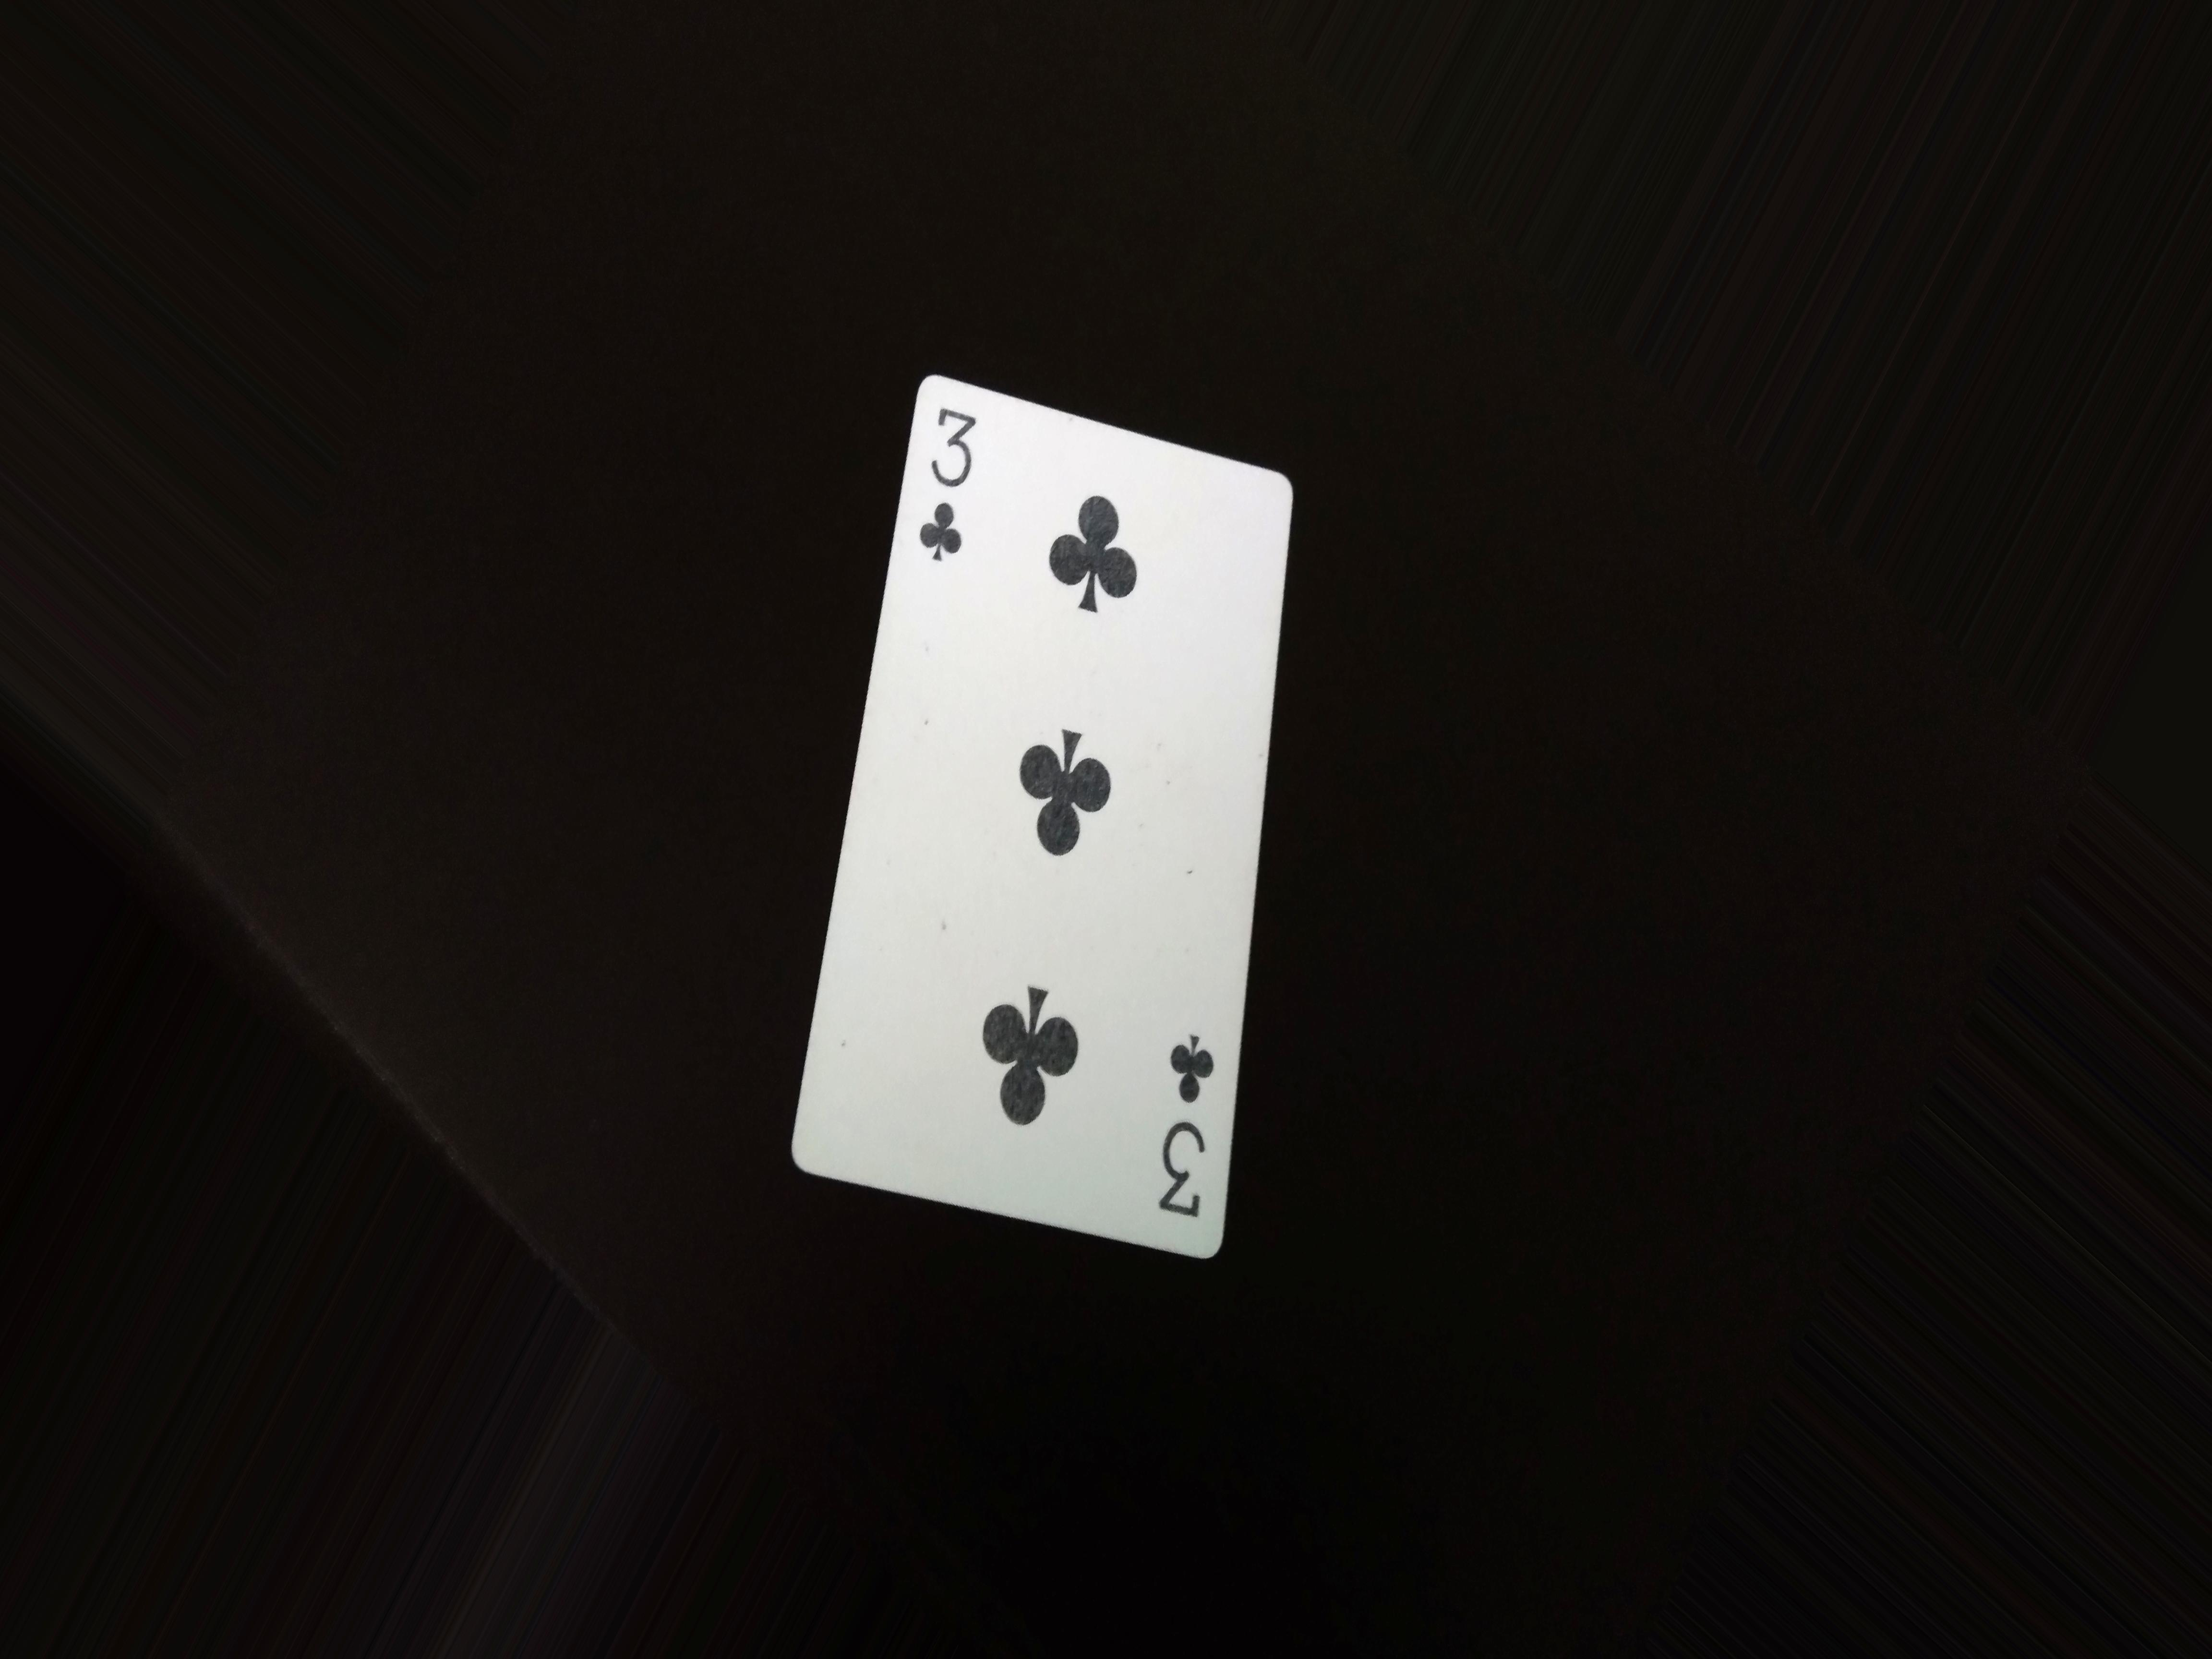3C: (1129, 1025, 1223, 1225)
